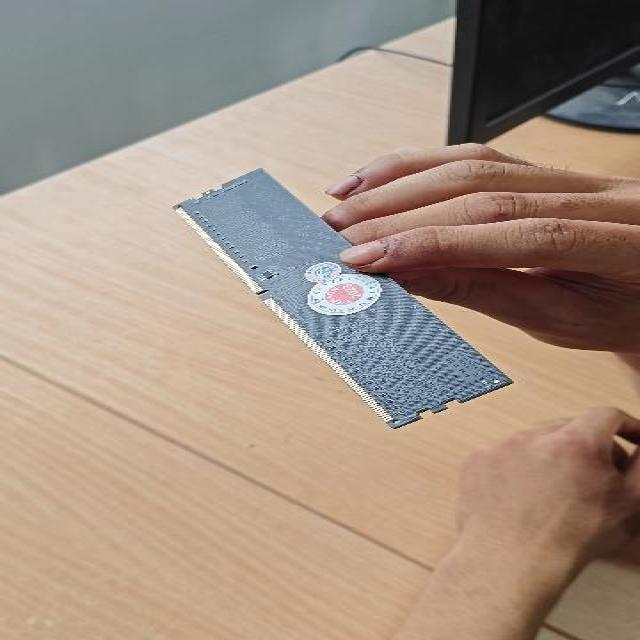RAM: (168, 160, 520, 436)
